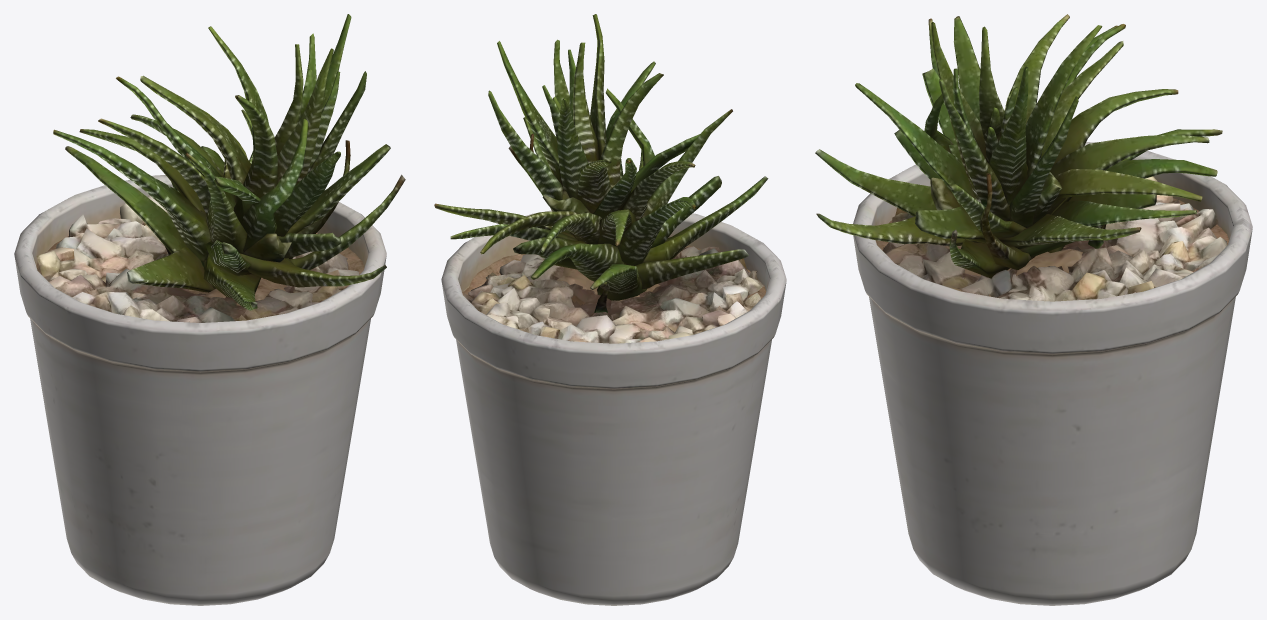
Rendered from potted_plant_04.glb.
3 views of the same model, side by side, from view 1: azimuth 30°, elevation 25°; view 2: azimuth 150°, elevation 25°; view 3: azimuth 270°, elevation 25° (orthographic). The views are drawn at different scales.
Visible parts, largest first — view 1: potted_plant_04; view 2: potted_plant_04; view 3: potted_plant_04.
Boxes of the visible parts, x1,y1,x2,y2 form: potted_plant_04: [14, 14, 405, 605]; potted_plant_04: [434, 14, 786, 605]; potted_plant_04: [815, 14, 1252, 605].
Size of the model in its own units: 0.1703 by 0.2676 by 0.186.
1 material, 1 textured.
